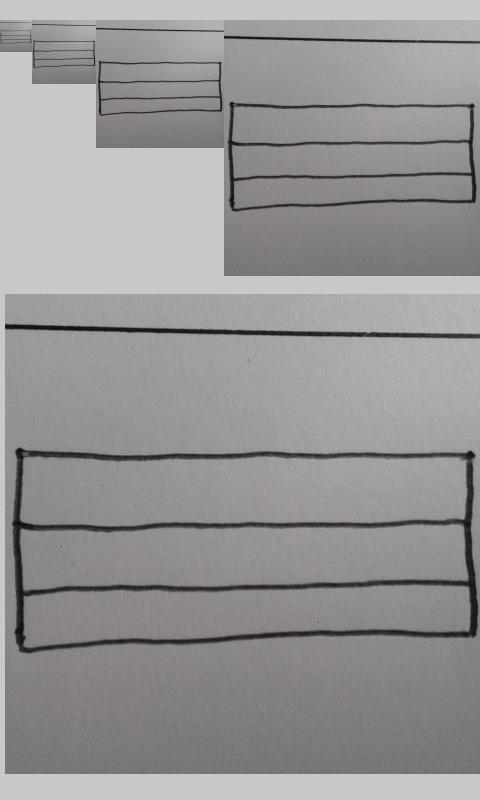list_view: (12, 444, 477, 655), (228, 102, 476, 213), (98, 61, 222, 116), (33, 40, 97, 68), (1, 29, 32, 45)
